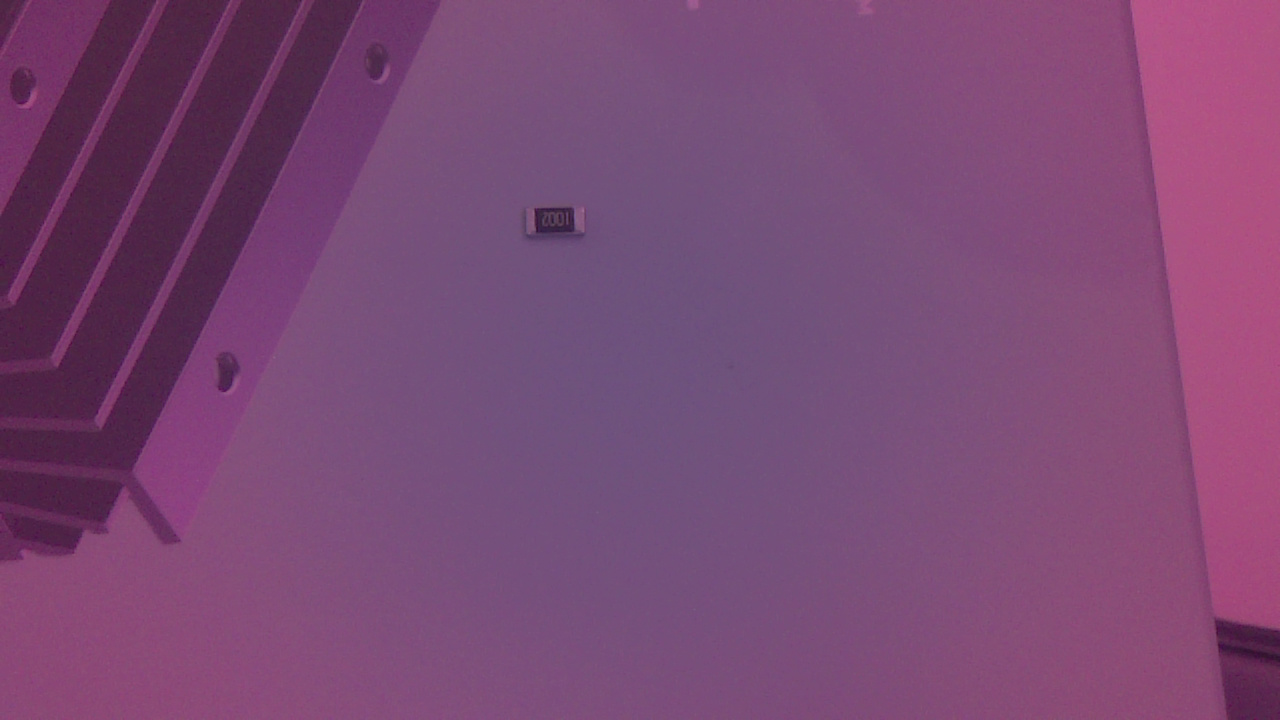Resistor: (523, 200, 596, 251)
